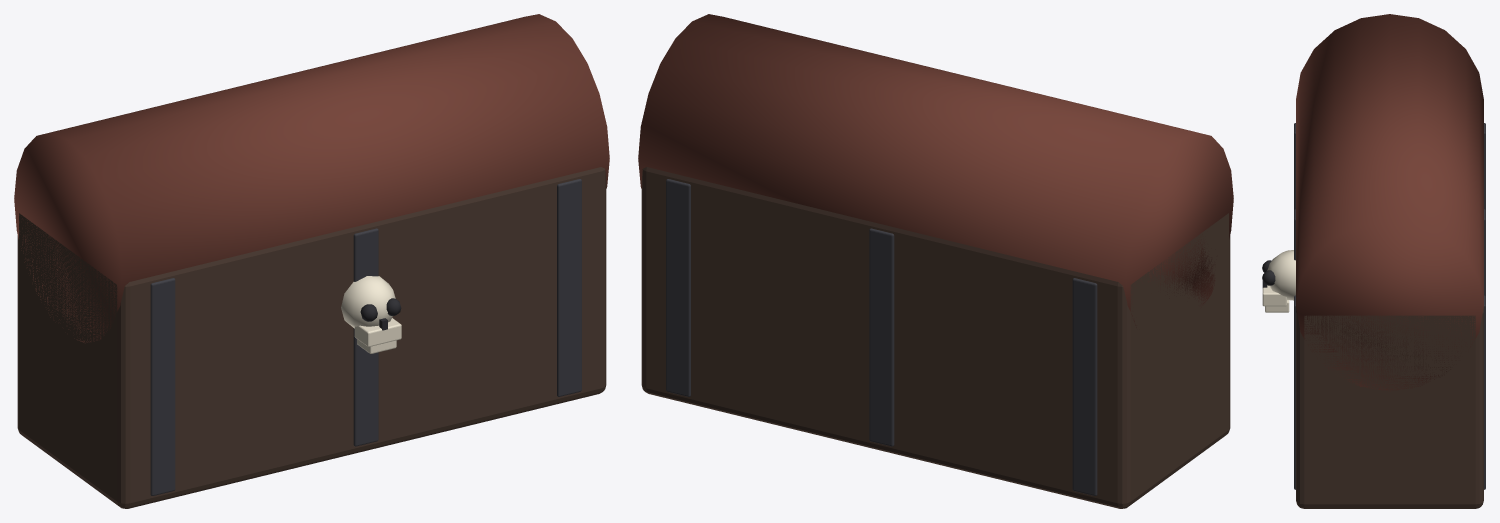
File: chest_skull_chest.glb
The picture shows the model from 3 angles, left to right: view 1: azimuth 30°, elevation 25°; view 2: azimuth 150°, elevation 25°; view 3: azimuth 270°, elevation 25°; orthographic projection. The views are drawn at different scales.
Parts seen in each view (by area): view 1: GD_chest_skull_chest__m0, GD_chest_skull_chest__m1, GD_chest_skull_chest__m4, GD_chest_skull_chest__m2; view 2: GD_chest_skull_chest__m0, GD_chest_skull_chest__m1, GD_chest_skull_chest__m4; view 3: GD_chest_skull_chest__m1, GD_chest_skull_chest__m0, GD_chest_skull_chest__m2, GD_chest_skull_chest__m4, GD_chest_skull_chest__m5.
Part boxes in pixels (left/top/right/bottom): GD_chest_skull_chest__m0: left=17, top=167, right=606, bottom=508; GD_chest_skull_chest__m1: left=14, top=14, right=609, bottom=343; GD_chest_skull_chest__m4: left=150, top=179, right=581, bottom=495; GD_chest_skull_chest__m2: left=341, top=276, right=401, bottom=353; GD_chest_skull_chest__m0: left=641, top=167, right=1230, bottom=508; GD_chest_skull_chest__m1: left=638, top=14, right=1233, bottom=327; GD_chest_skull_chest__m4: left=666, top=179, right=1097, bottom=495; GD_chest_skull_chest__m1: left=1296, top=14, right=1483, bottom=391; GD_chest_skull_chest__m0: left=1296, top=307, right=1483, bottom=508; GD_chest_skull_chest__m2: left=1262, top=250, right=1295, bottom=312; GD_chest_skull_chest__m4: left=1294, top=123, right=1485, bottom=489; GD_chest_skull_chest__m5: left=1262, top=260, right=1275, bottom=287.
Size of the model in its own units: 1.2 by 0.785 by 0.5482.
